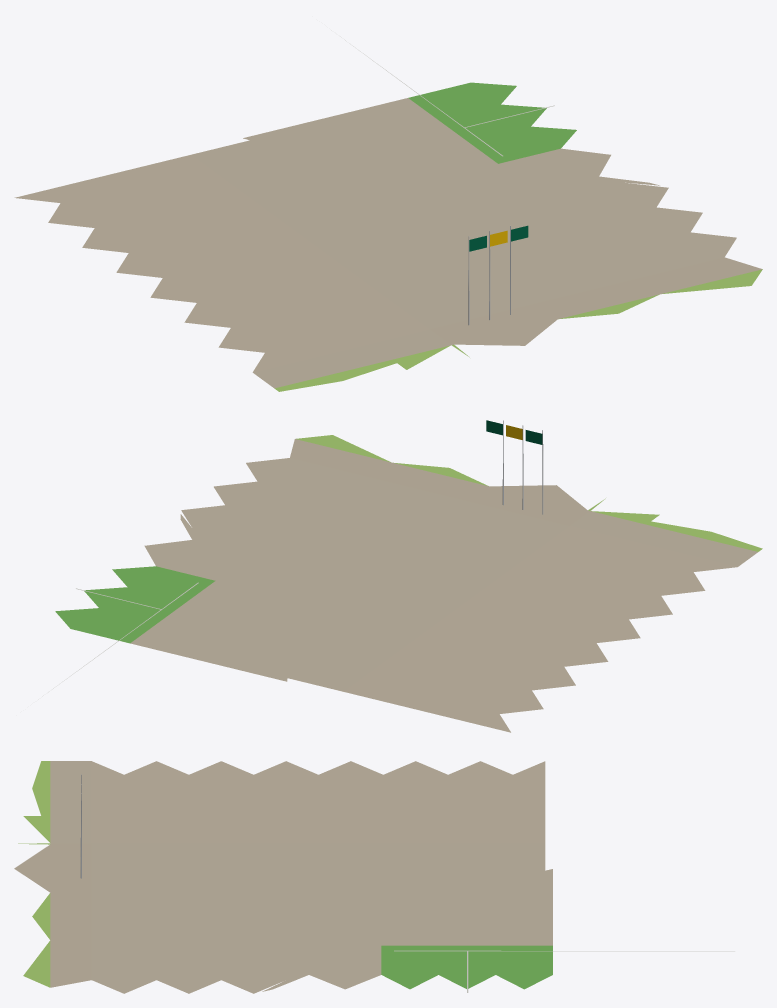
The picture shows the model from 3 angles, top to bottom: view 1: azimuth 30°, elevation 25°; view 2: azimuth 150°, elevation 25°; view 3: azimuth 270°, elevation 25°; orthographic projection. The views are drawn at different scales.
Visible parts, largest first — view 1: estructura_terreno, estructura_cesped, estructura_arquitectura; view 2: estructura_terreno, estructura_cesped, estructura_arquitectura; view 3: estructura_terreno, estructura_cesped.
Boxes of the visible parts, <box> form: estructura_terreno: <box>14,30,762,388</box>; estructura_cesped: <box>274,82,762,391</box>; estructura_arquitectura: <box>469,225,528,251</box>; estructura_terreno: <box>38,439,757,732</box>; estructura_cesped: <box>55,435,762,643</box>; estructura_arquitectura: <box>486,420,542,444</box>; estructura_terreno: <box>14,761,734,993</box>; estructura_cesped: <box>18,761,552,989</box>.
Bounding box in the file's own units: 53.12 × 9 × 72.24.
